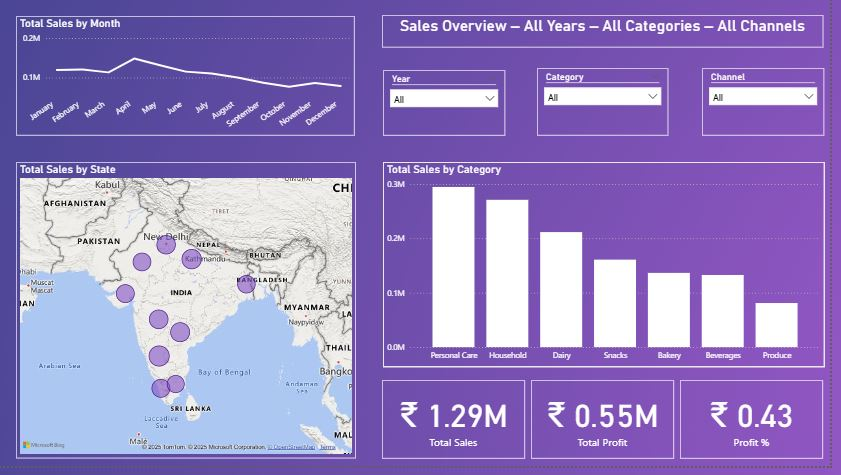

This screenshot's page, from the dashboard's own definition file:
{"tool":"powerbi","page":{"name":"Page 1","canvas":[1280,720],"ordinal":0},"visuals":[{"type":"card","fields":{"Values":["Measures (2).Total Sales"]},"box":[591.3,587.9,220.1,120.9],"z":0},{"type":"card","fields":{"Values":["Measures (2).Total Profit"]},"box":[819.7,587.9,220.1,120.9],"z":1000},{"type":"card","fields":{"Values":["Measures (2).Profit %"]},"box":[1049.9,587.9,220.1,120.9],"z":2000},{"type":"lineChart","fields":{"Category":["Calendar.YearMonth.Variation.Date Hierarchy.Year","Calendar.YearMonth.Variation.Date Hierarchy.Quarter","Calendar.YearMonth.Variation.Date Hierarchy.Month","Calendar.YearMonth.Variation.Date Hierarchy.Day"],"Y":["Measures (2).Total Sales"]},"box":[27.4,27.4,521.3,184.3],"z":3000},{"type":"columnChart","fields":{"Category":["Products.Category"],"Y":["Measures (2).Total Sales"]},"box":[593,252,678.6,315.8],"z":4000},{"type":"map","fields":{"Category":["Orders.State"],"Size":["Measures (2).Total Sales"]},"box":[27.4,252,522.7,456.5],"z":5000},{"type":"slicer","fields":{"Values":["Calendar.Year"]},"box":[593,110.9,188.1,100.8],"z":6000},{"type":"slicer","fields":{"Values":["Orders.Channel"]},"box":[1083.5,107.5,188.1,104.1],"z":7000},{"type":"slicer","fields":{"Values":["Products.Category"]},"box":[829.8,107.5,201.6,104.1],"z":8000},{"type":"card","fields":{"Values":["Calendar.Dashboard Title"]},"box":[591.3,26.9,678.6,50.4],"z":9000}]}

Visuals, with their boxes in screenshot pixels (x1, y1, x2, y2), scaled from the page's 1280x720 canvas onto the 841x475 screenshot:
card - Measures (2).Total Sales: <bbox>389, 388, 533, 468</bbox>
card - Measures (2).Total Profit: <bbox>539, 388, 683, 468</bbox>
card - Measures (2).Profit %: <bbox>690, 388, 834, 468</bbox>
lineChart - Calendar.YearMonth.Variation.Date Hierarchy.Year x Calendar.YearMonth.Variation.Date Hierarchy.Quarter: <bbox>18, 18, 361, 140</bbox>
columnChart - Products.Category x Measures (2).Total Sales: <bbox>390, 166, 835, 375</bbox>
map - Orders.State x Measures (2).Total Sales: <bbox>18, 166, 361, 467</bbox>
slicer - Calendar.Year: <bbox>390, 73, 513, 140</bbox>
slicer - Orders.Channel: <bbox>712, 71, 835, 140</bbox>
slicer - Products.Category: <bbox>545, 71, 678, 140</bbox>
card - Calendar.Dashboard Title: <bbox>389, 18, 834, 51</bbox>
